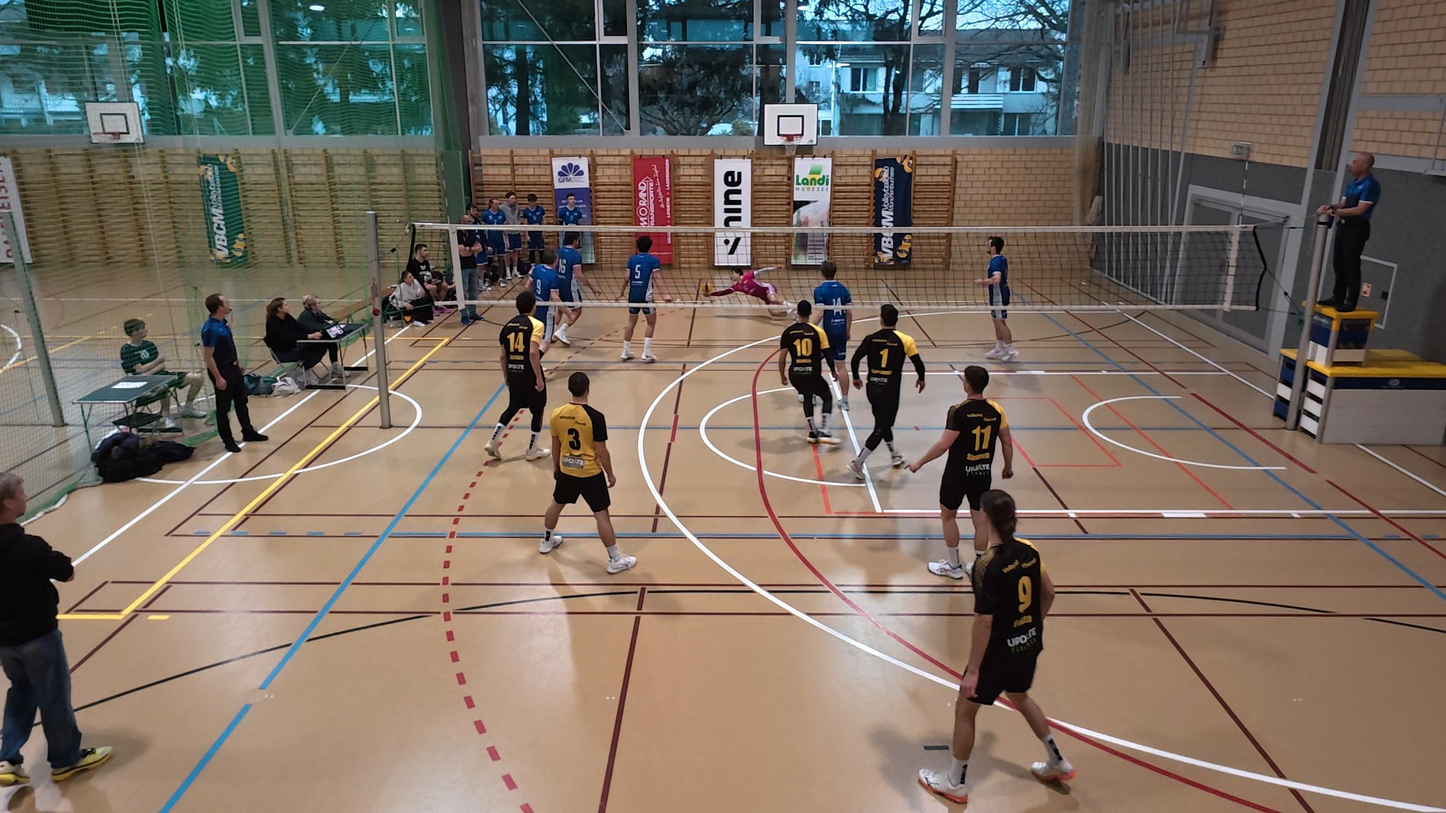Dig: (699, 260, 800, 323)
Player: (918, 492, 1074, 804), (910, 365, 1014, 580), (538, 371, 636, 574), (848, 303, 925, 483), (487, 290, 551, 462), (780, 304, 840, 445), (810, 261, 853, 410), (530, 248, 590, 347), (620, 236, 665, 363), (982, 236, 1018, 363)
ball: (528, 316, 549, 341), (695, 275, 717, 298)
